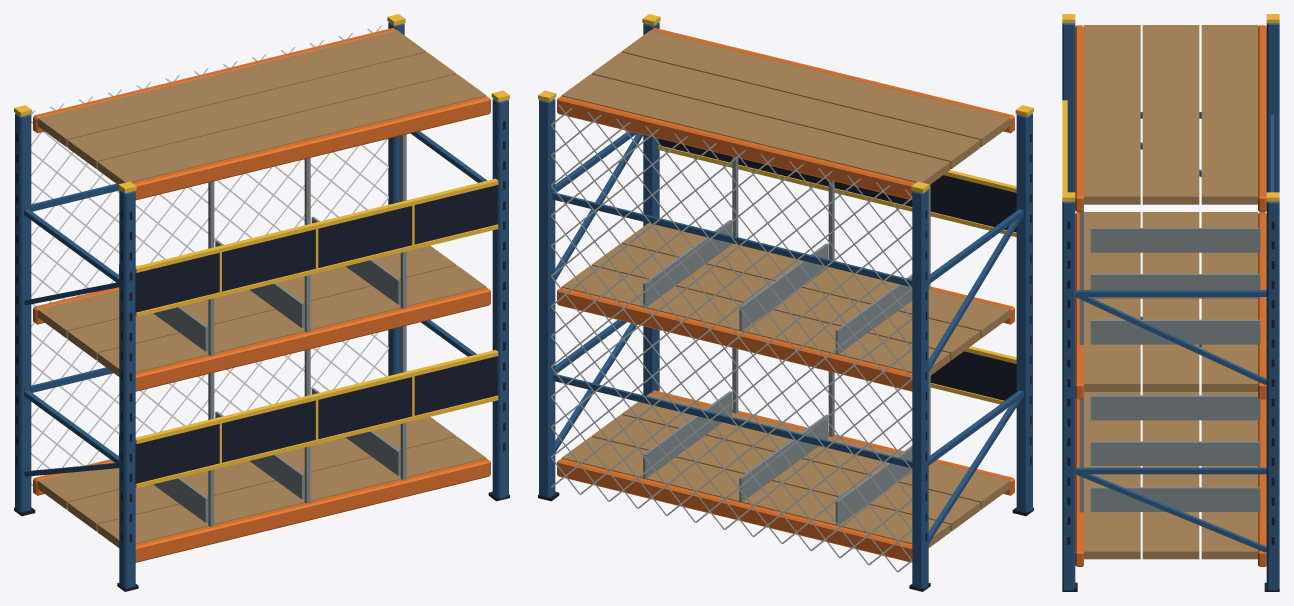
Rendered from sm_env_shed_shelf.glb.
3 renders of one model, left to right at view 1: azimuth 30°, elevation 25°; view 2: azimuth 150°, elevation 25°; view 3: azimuth 270°, elevation 25°, orthographic. The views are drawn at different scales.
Parts seen in each view (by area): view 1: LabelRail, LabelRail.001, DeckPlank.007, DeckPlank.006, DeckPlank.008, DeckPlank.002, DeckPlank.005, BackMesh, DeckPlank.001, DeckPlank.004, StepBeam.005, StepBeam.001 (+29 smaller); view 2: BackMesh, DeckPlank.007, DeckPlank.008, DeckPlank.006, DeckPlank, DeckPlank.003, DeckPlank.001, DeckPlank.004, DeckPlank.005, Upright, StepBeam.004, Upright.002 (+26 smaller); view 3: DeckPlank.007, DeckPlank.006, DeckPlank.008, DeckPlank.005, DeckPlank.004, DeckPlank.003, DeckPlank.002, Upright.003, Upright.002, DeckPlank.001, DeckPlank, DividerFence (+23 smaller).
Part boxes in pixels (x1,y1,x2,y2): LabelRail: (135, 356, 497, 483); LabelRail.001: (135, 185, 497, 312); DeckPlank.007: (67, 52, 456, 168); DeckPlank.006: (37, 30, 426, 146); DeckPlank.008: (97, 74, 486, 184); DeckPlank.002: (97, 436, 486, 547); DeckPlank.005: (97, 265, 486, 376); BackMesh: (31, 26, 388, 485); DeckPlank.001: (67, 417, 456, 531); DeckPlank.004: (67, 245, 456, 360); StepBeam.005: (132, 96, 490, 200); StepBeam.001: (135, 458, 490, 562); BackMesh: (551, 104, 912, 572); DeckPlank.007: (591, 52, 980, 168); DeckPlank.008: (621, 30, 1010, 146); DeckPlank.006: (561, 74, 950, 184); DeckPlank: (561, 436, 950, 547); DeckPlank.003: (561, 265, 950, 376); DeckPlank.001: (591, 414, 980, 531); DeckPlank.004: (591, 243, 980, 360); DeckPlank.005: (621, 223, 1010, 338); Upright: (912, 190, 928, 589); StepBeam.004: (557, 96, 915, 200); Upright.002: (539, 98, 555, 498); DeckPlank.007: (1142, 25, 1199, 204); DeckPlank.006: (1201, 25, 1257, 204); DeckPlank.008: (1084, 25, 1140, 204); DeckPlank.005: (1084, 212, 1140, 391); DeckPlank.004: (1142, 212, 1199, 391); DeckPlank.003: (1201, 212, 1257, 391); DeckPlank.002: (1084, 392, 1140, 559); Upright.003: (1062, 201, 1075, 590); Upright.002: (1266, 201, 1279, 590); DeckPlank.001: (1142, 392, 1199, 559); DeckPlank: (1201, 392, 1257, 559); DividerFence: (1090, 395, 1260, 420).
Bounding box in the file's own units: 2 × 2 × 1.
Materials: 7 (1 with a texture image).
